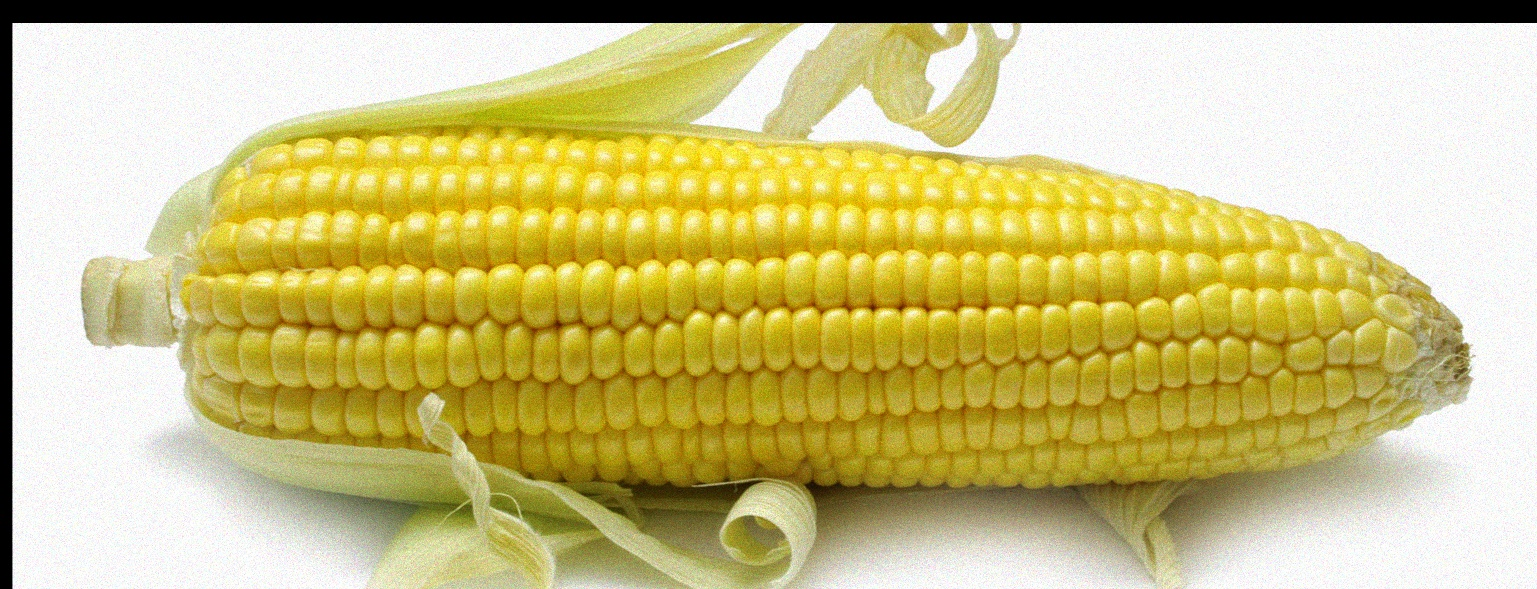corn: (78, 32, 1490, 535)
